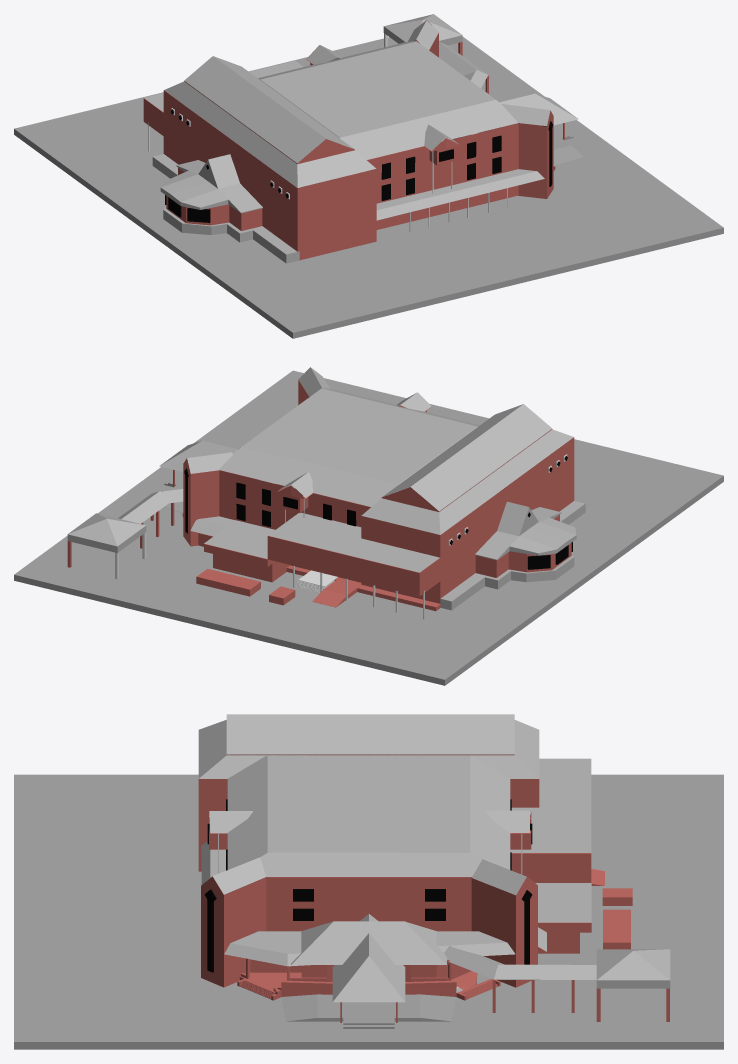
File: HCU Auditorium Model.fbx
3 renders of one model, top to bottom at view 1: azimuth 30°, elevation 25°; view 2: azimuth 150°, elevation 25°; view 3: azimuth 270°, elevation 25°, orthographic. The views are drawn at different scales.
Visible parts, largest first — view 1: Cube, Cube.053, Cube.001, Cube.052, Cube.002, Cube.037, Cube.005, Cube.038, Cube.003, Cube.036, Cube.022, Cube.012 (+4 smaller); view 2: Cube, Cube.053, Cube.052, Cube.001, Cube.041, Cube.056, Cube.002, Cube.037, Cube.038, Cube.004, Cube.022, Cube.036 (+5 smaller); view 3: Cube, Cube.053, Cube.052, Cube.002, Cube.056, Cube.013, Cube.003, Cube.011, Cube.004, Cube.041, Cube.012, Cube.007 (+18 smaller).
Part boxes in pixels (x1,y1,x2,y2): Cube: (14, 37, 723, 338); Cube.053: (258, 41, 517, 159); Cube.001: (163, 81, 376, 260); Cube.052: (164, 56, 376, 187); Cube.002: (297, 123, 522, 229); Cube.037: (160, 154, 262, 213); Cube.005: (376, 169, 544, 220); Cube.038: (152, 154, 299, 263); Cube.003: (500, 111, 553, 198); Cube.036: (166, 167, 262, 230); Cube.022: (383, 14, 462, 45); Cube.012: (462, 93, 578, 136); Cube: (14, 370, 723, 685); Cube.053: (219, 388, 479, 506); Cube.052: (361, 404, 573, 534); Cube.001: (361, 429, 574, 603); Cube.041: (190, 531, 440, 611); Cube.056: (190, 512, 439, 572); Cube.002: (219, 470, 436, 534); Cube.037: (475, 501, 576, 560); Cube.038: (440, 501, 585, 610); Cube.004: (183, 458, 235, 546); Cube.022: (67, 513, 146, 552); Cube.036: (475, 514, 571, 577); Cube: (14, 774, 723, 1049); Cube.053: (227, 755, 510, 876); Cube.052: (198, 714, 539, 778); Cube.002: (228, 877, 471, 931); Cube.056: (510, 758, 591, 951); Cube.013: (291, 921, 446, 964); Cube.003: (201, 877, 266, 987); Cube.011: (281, 994, 456, 1028); Cube.004: (471, 864, 537, 987); Cube.041: (511, 853, 604, 953); Cube.012: (332, 914, 405, 1002); Cube.007: (224, 931, 515, 966).
Size of the model in its own units: 26482 by 6482 by 29690.
